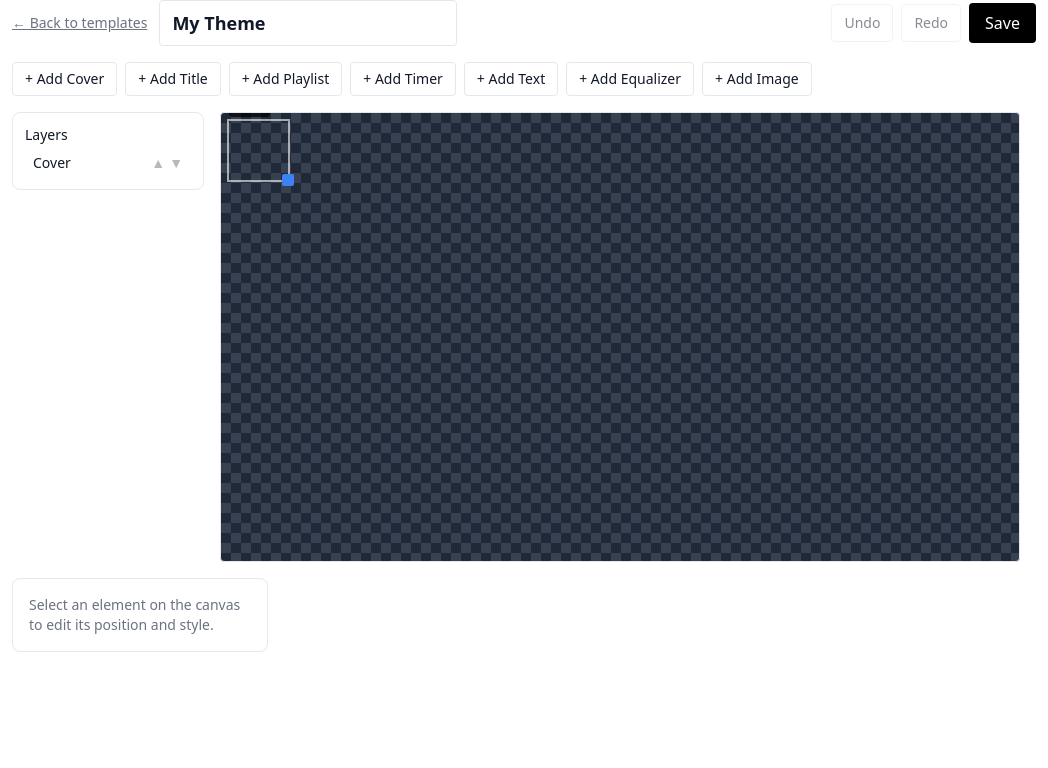
Test case: TemplateEditor › "Remove element" takes the selected element off the canvas
Step 1. Click the text "Cover" → (250, 109), box [229,101,270,117]
(page scrolled)
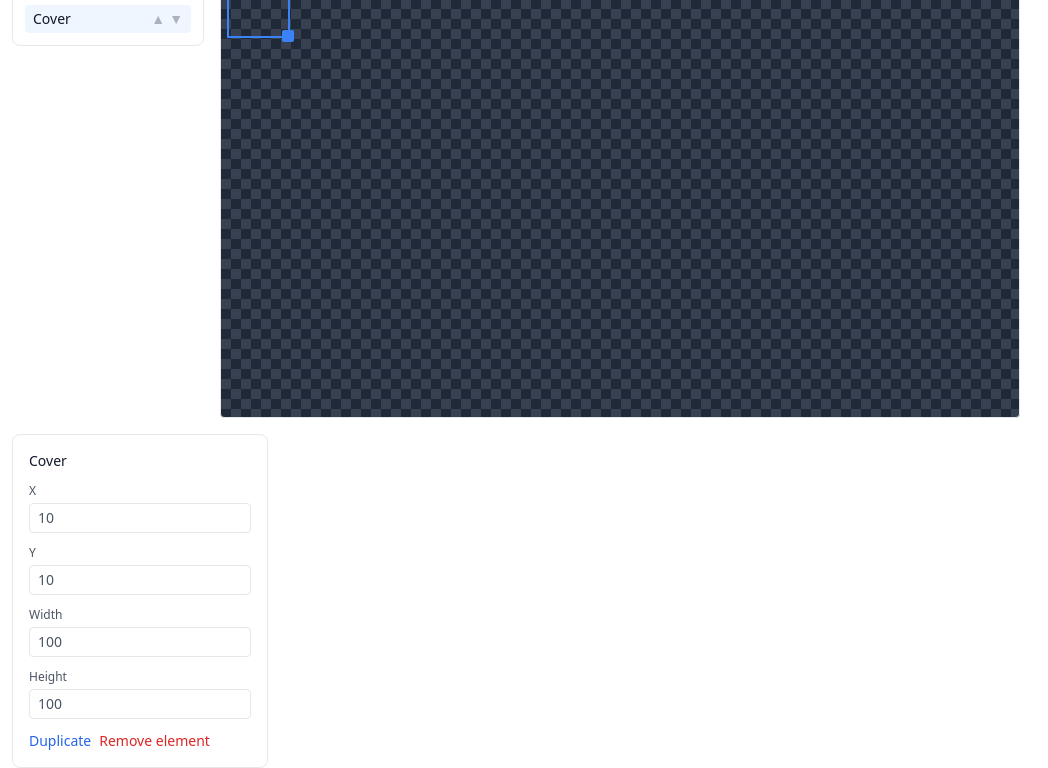
Now the number field labelled "Width" is shown, box [29,627,251,657]
Step 2. Click the button "Remove element" → (154, 741), box [99,731,210,751]
(page scrolled)
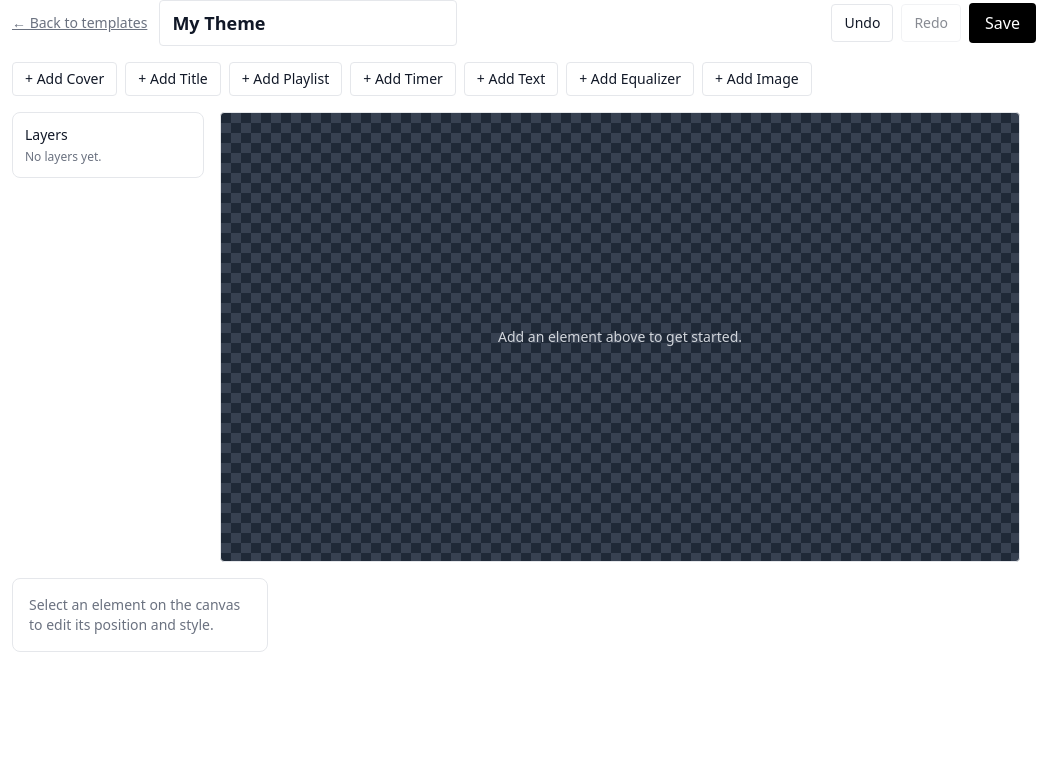
Now the label labelled "Width" is gone
Now the text "Select an element on the canvas to edit its position and style." is shown, box [29,595,251,635]
